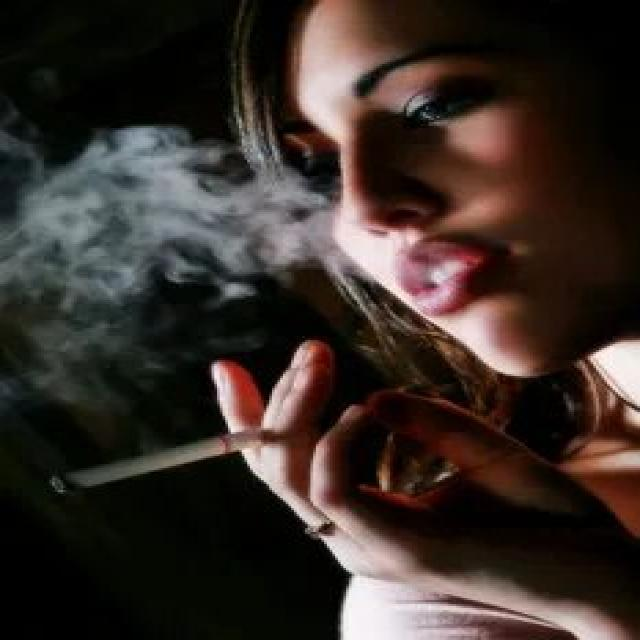smoke: (47, 426, 280, 496)
